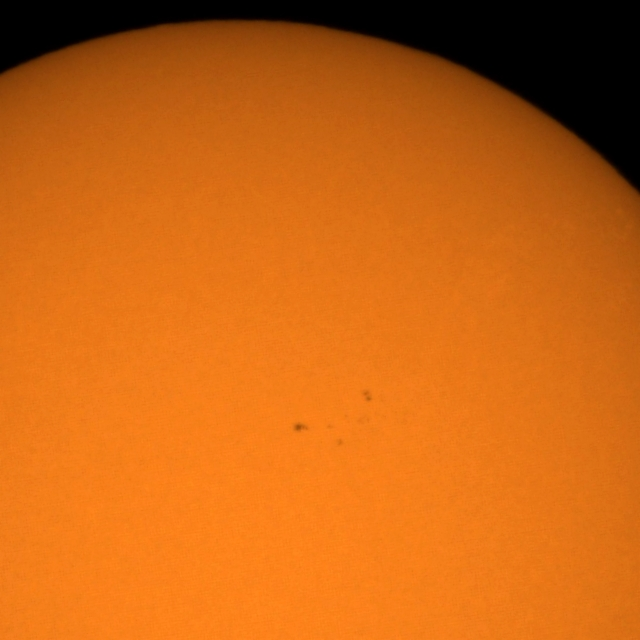sunspot: (292, 421, 310, 434), (361, 388, 374, 404)
